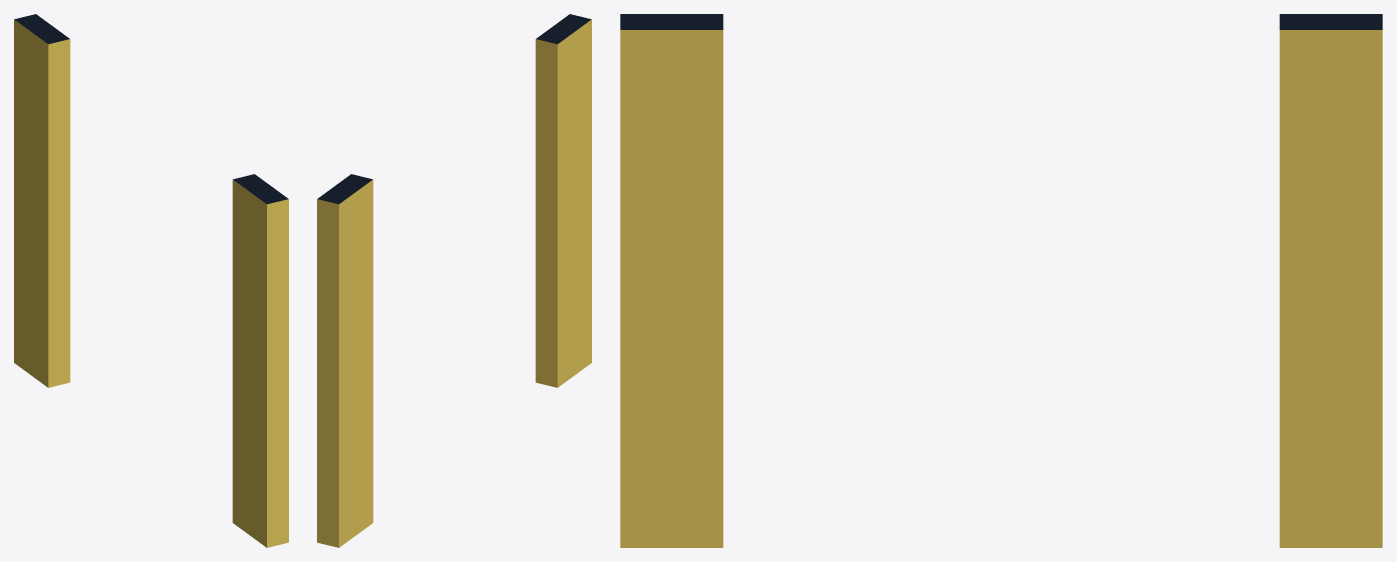
Rendered from Porte_Simple_Mur3.FBX.
The picture shows the model from 3 angles, left to right: view 1: azimuth 30°, elevation 25°; view 2: azimuth 150°, elevation 25°; view 3: azimuth 270°, elevation 25°; orthographic projection. The views are drawn at different scales.
Visible parts, largest first — view 1: Porte_Simple_Mur3; view 2: Porte_Simple_Mur3; view 3: Porte_Simple_Mur3.
Boxes of the visible parts, left/top/right/bottom form: Porte_Simple_Mur3: left=14, top=14, right=288, bottom=547; Porte_Simple_Mur3: left=317, top=14, right=591, bottom=547; Porte_Simple_Mur3: left=620, top=14, right=1382, bottom=547.
Bounding box in the file's own units: 0.1 × 1.5 × 2.
